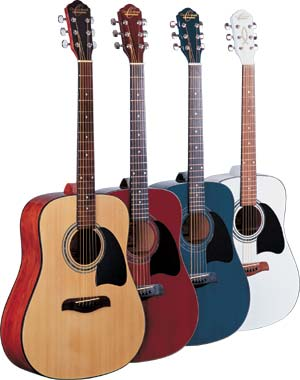guitar: (2, 1, 145, 376), (99, 1, 200, 360), (152, 5, 249, 345), (219, 7, 300, 336)
